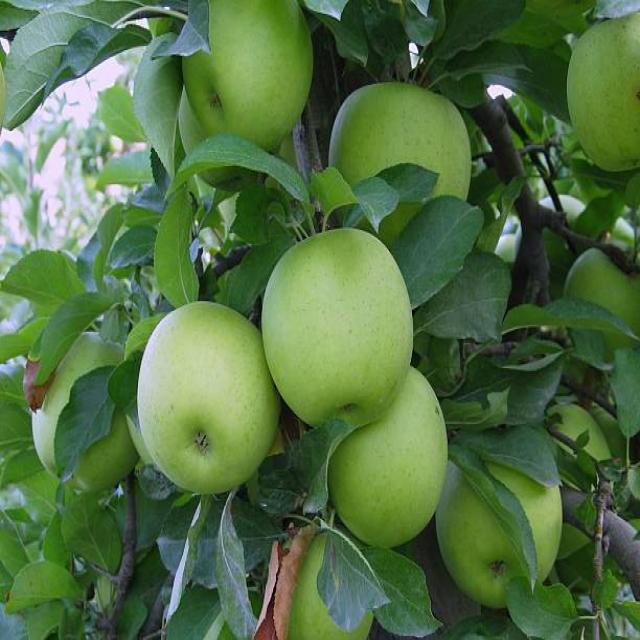Unripe: (262, 230, 413, 429), (139, 301, 276, 495), (183, 0, 314, 151)
